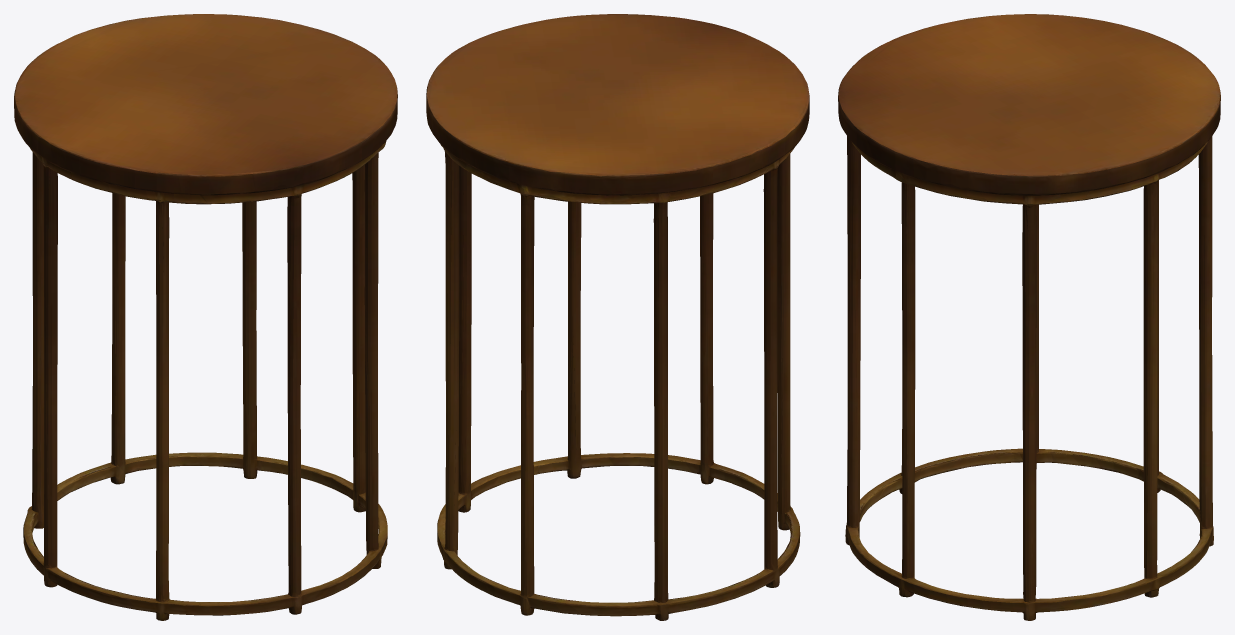
3 renders of one model, left to right at view 1: azimuth 30°, elevation 25°; view 2: azimuth 150°, elevation 25°; view 3: azimuth 270°, elevation 25°, orthographic.
Parts seen in each view (by area): view 1: geometry_0; view 2: geometry_0; view 3: geometry_0.
Part boxes in pixels (x1,y1,x2,y2): geometry_0: [14, 14, 397, 620]; geometry_0: [426, 14, 809, 620]; geometry_0: [838, 14, 1220, 620].
Bounding box in the file's own units: 0.767 × 0.9916 × 0.7649.
Materials: 1 (1 with a texture image).
